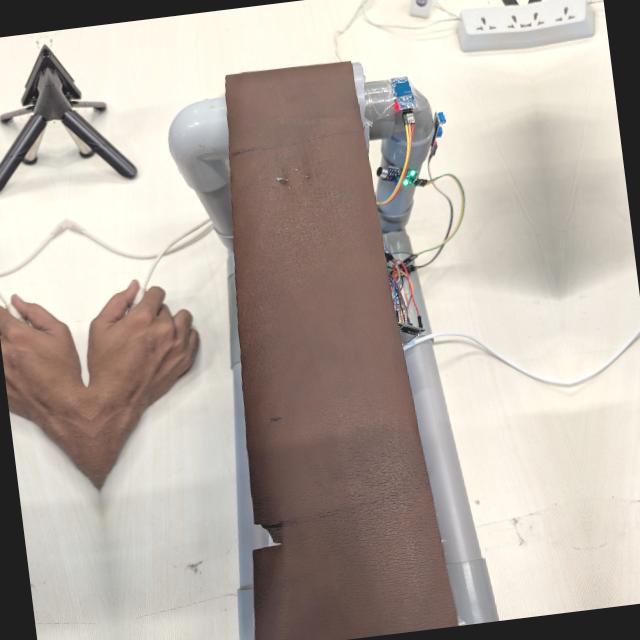belt_crack: (246, 149, 327, 197)
belt_tear: (235, 496, 286, 569)
